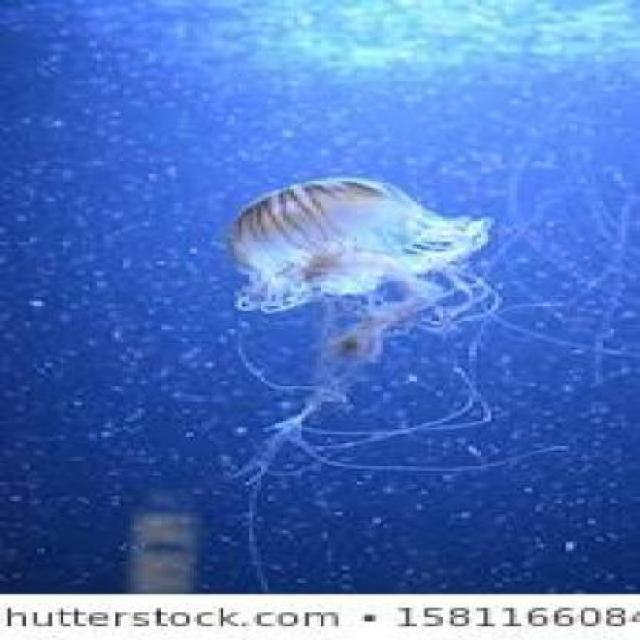Jellyfish: (223, 174, 506, 362)
